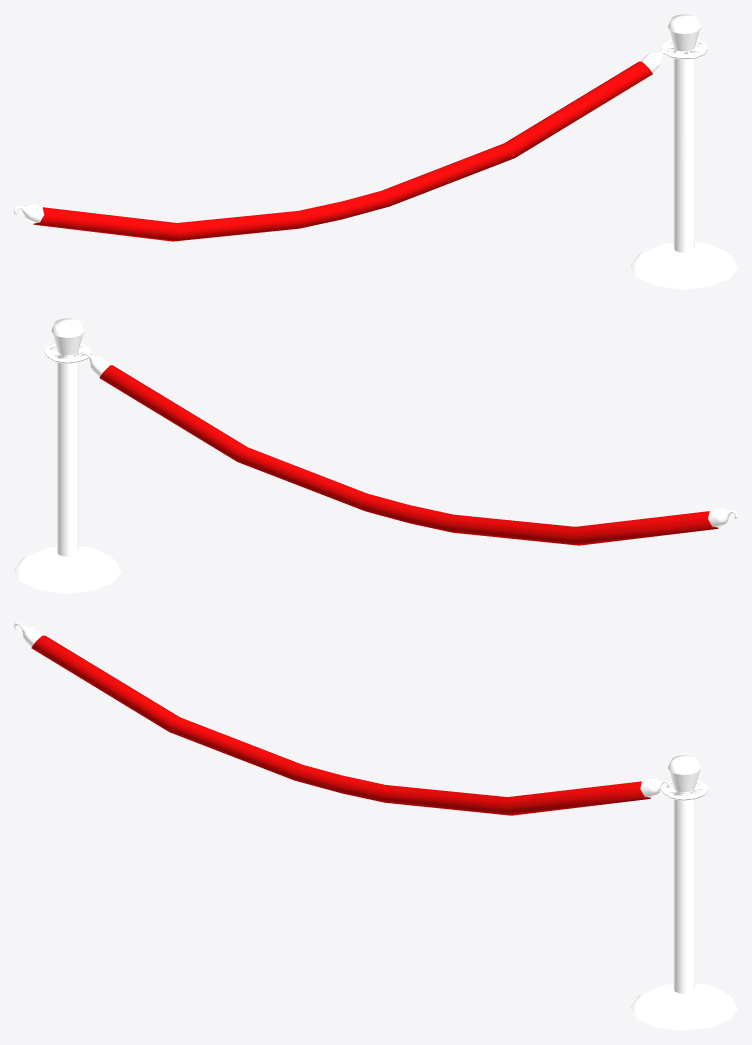
3 renders of one model, top to bottom at view 1: azimuth 30°, elevation 25°; view 2: azimuth 150°, elevation 25°; view 3: azimuth 330°, elevation 25°, orthographic.
Visible parts, largest first — view 1: VipRopeSilverAddon; view 2: VipRopeSilverAddon; view 3: VipRopeSilverAddon.
Boxes of the visible parts, box(x1,y1,x2,y2) form: VipRopeSilverAddon: box(14, 14, 737, 289); VipRopeSilverAddon: box(14, 318, 737, 593); VipRopeSilverAddon: box(14, 622, 737, 1030).
Size of what is drawn, in the model's own units: 3.53 by 1.17 by 0.4581.
Materials: 2 (2 with a texture image).
